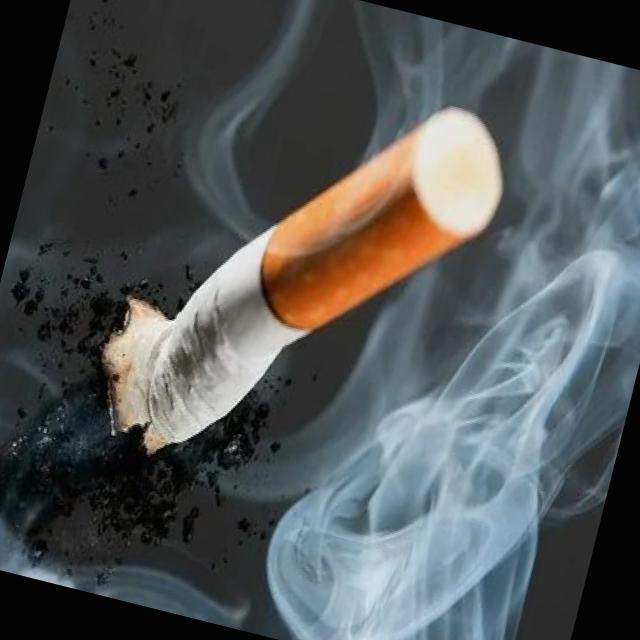cigarette: (53, 0, 537, 549)
